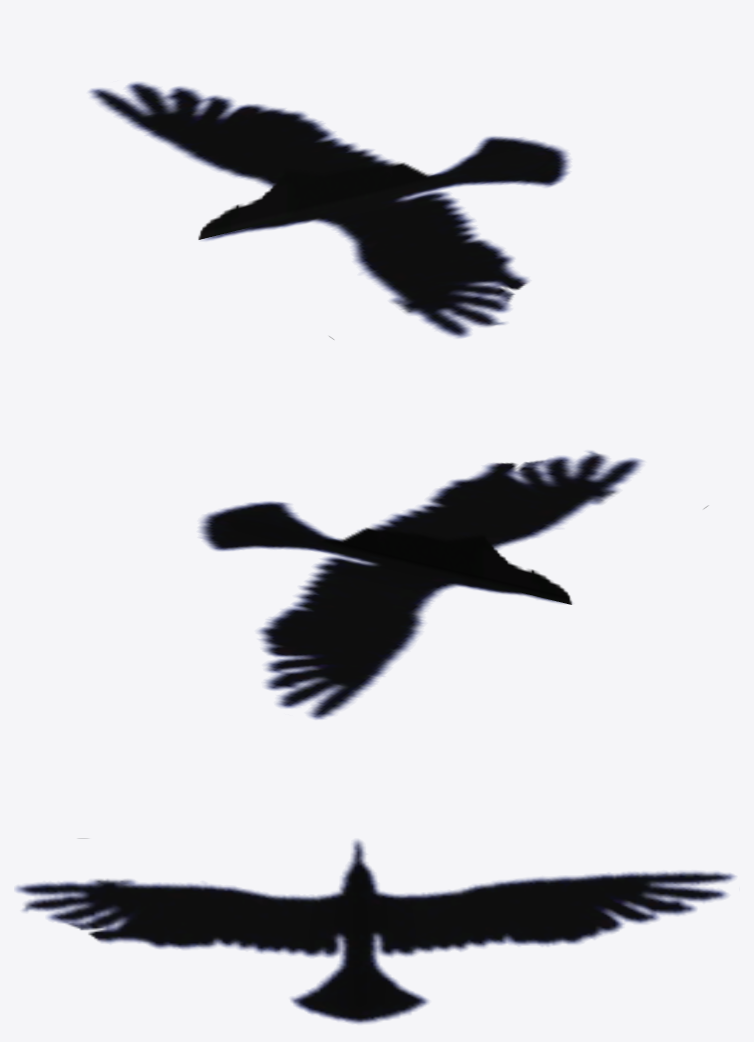
Rendered from distant_bird.glb.
3 views of the same model, one above another, from view 1: azimuth 30°, elevation 25°; view 2: azimuth 150°, elevation 25°; view 3: azimuth 270°, elevation 25° (orthographic). The views are drawn at different scales.
Visible parts, largest first — view 1: Plane; view 2: Plane; view 3: Plane.
Boxes of the visible parts, <box> form: Plane: <box>89,82,569,339</box>; Plane: <box>199,451,707,719</box>; Plane: <box>15,838,735,1023</box>.
Size of the model in its own units: 1.24 by 0.2118 by 2.
Materials: 1 (1 with a texture image).
